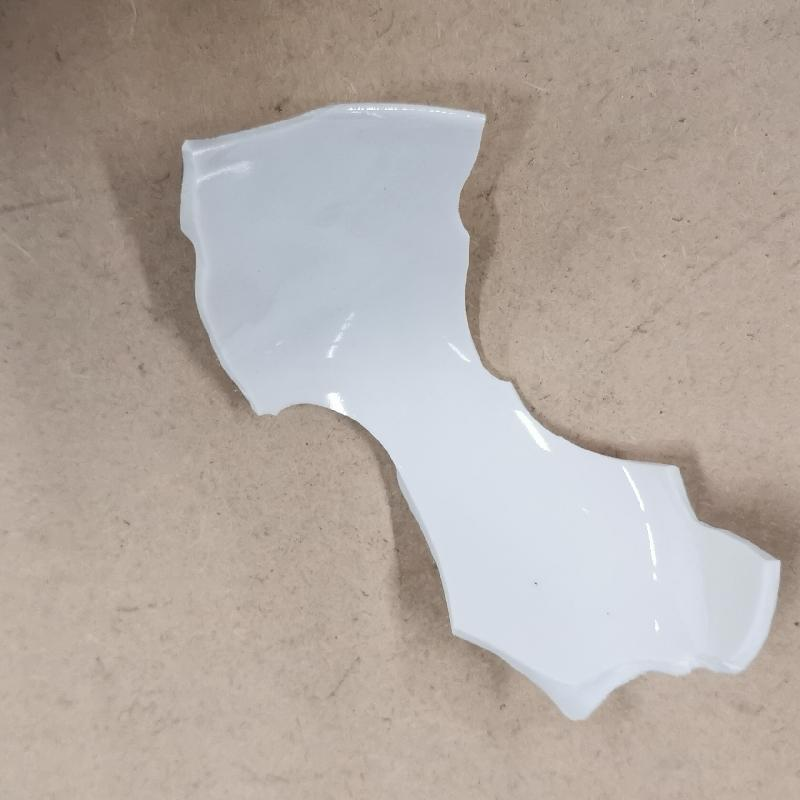ceram: (165, 100, 790, 723)
